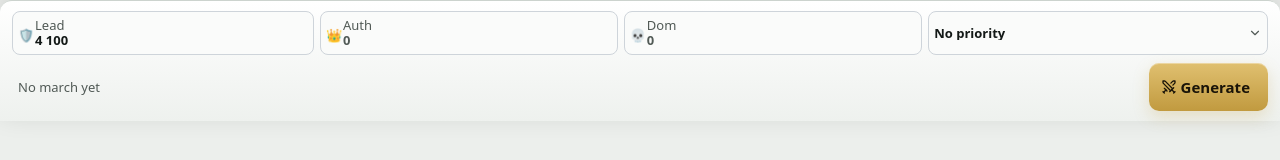
Enter in a chip commits the figure and generates once
Click the button with aria-label "Leadership 4 100".
click(52, 40)  # box [12,11,314,55]
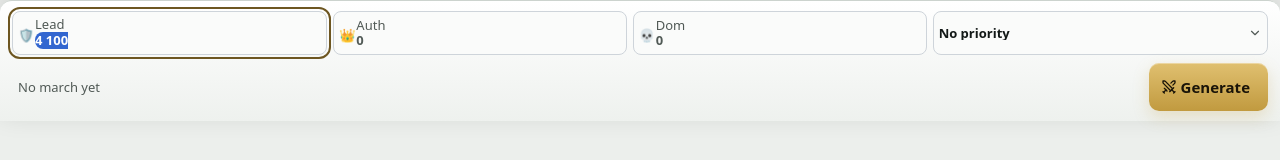
Type keys "5000{Enter}"
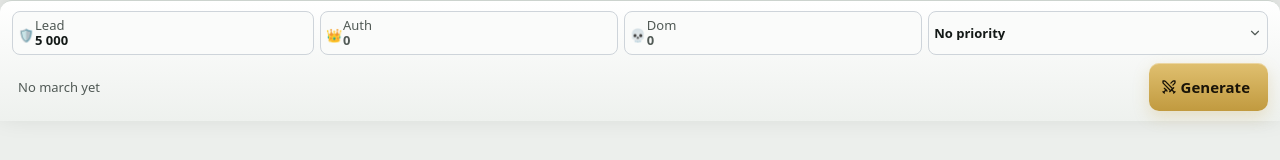
Expected: the button with aria-label "Leadership 5 000" is shown, [12,11,314,55]
